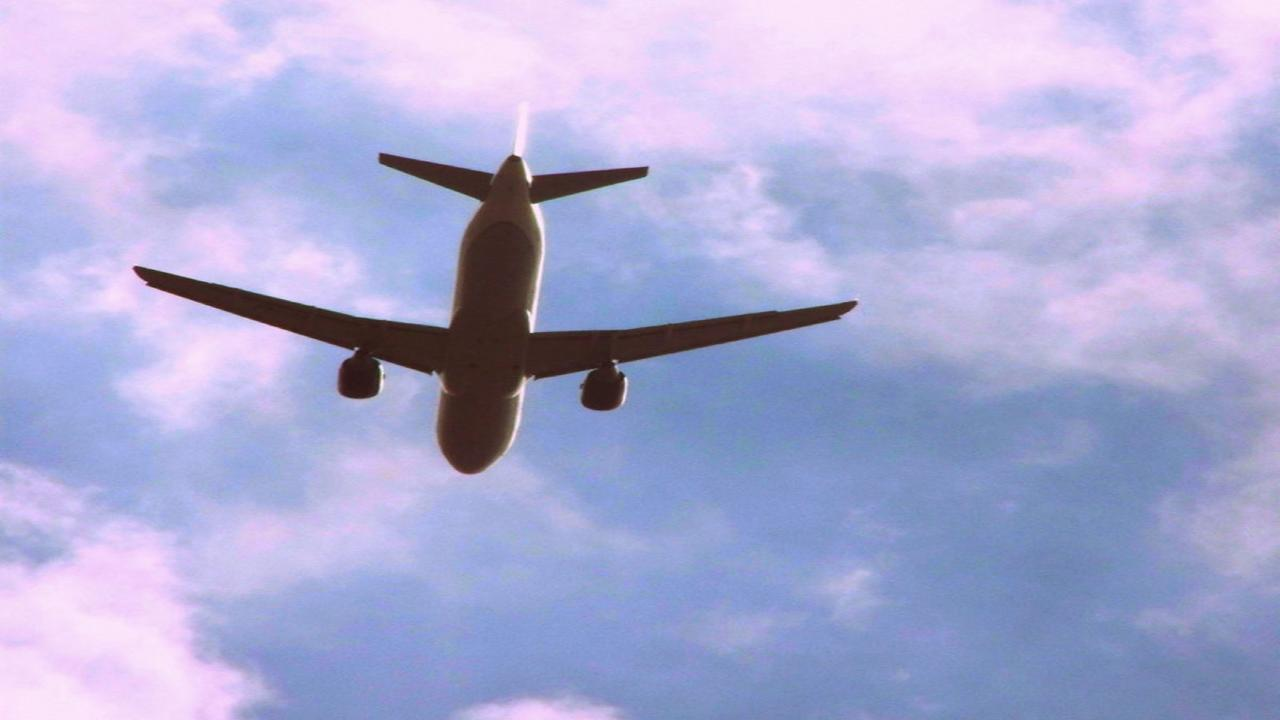Airplane: (98, 61, 874, 492)
